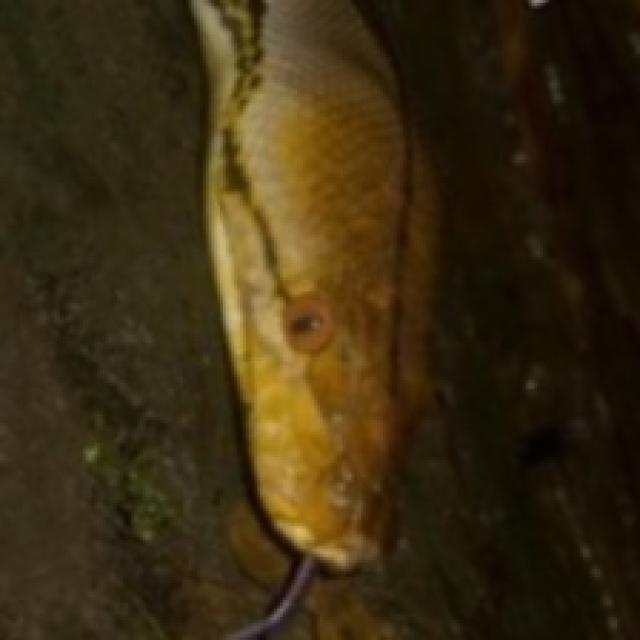reticulated python: (189, 0, 426, 640)
